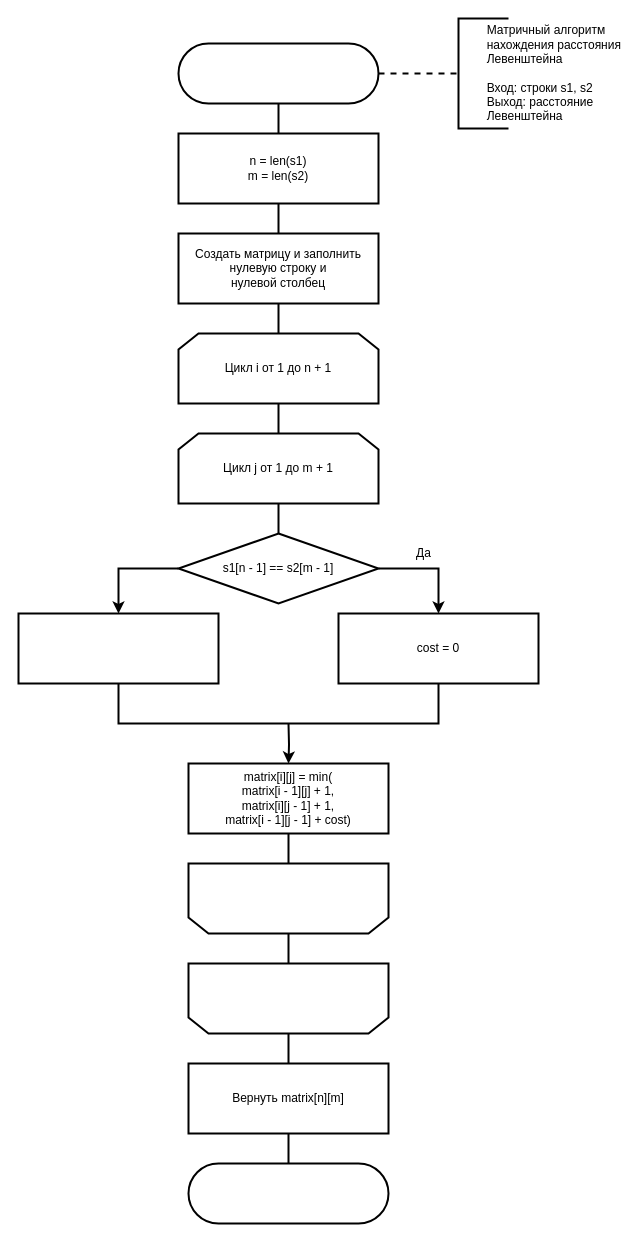
Some shapes in this 638 by 1241 pixel diagram are drawn without their labels. Here are the shapes that lost their labels. From the top down, the centre of each, then its label:
At [278,73]: "Начало".
At [118,648]: "cost = 1".
At [288,898]: "i += 1".
At [288,998]: "j += 1".
At [288,1193]: "Конец".
